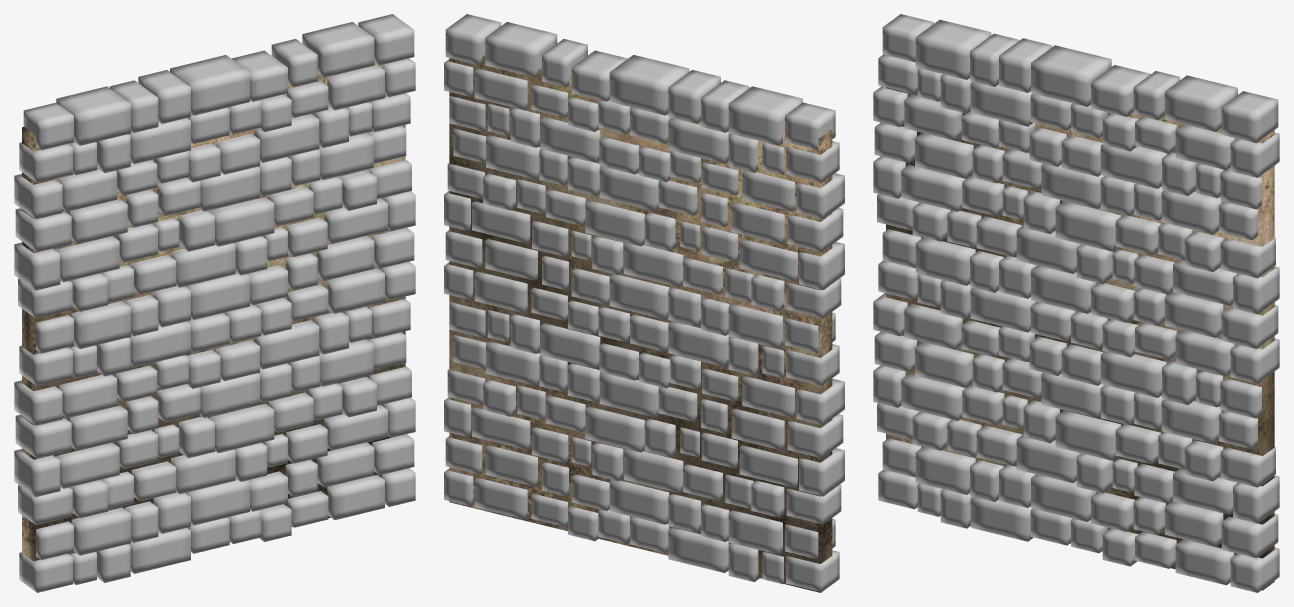
Rendered from SlimWall.fbx.
The picture shows the model from 3 angles, left to right: view 1: azimuth 30°, elevation 25°; view 2: azimuth 150°, elevation 25°; view 3: azimuth 330°, elevation 25°; orthographic projection.
Visible parts, largest first — view 1: RuinsSlimWall; view 2: RuinsSlimWall; view 3: RuinsSlimWall.
Part boxes in pixels (x1,y1,x2,y2): RuinsSlimWall: (14,14,415,592); RuinsSlimWall: (444,14,844,592); RuinsSlimWall: (873,14,1279,592).
Bounding box in the file's own units: 125 × 151 × 15.36.
